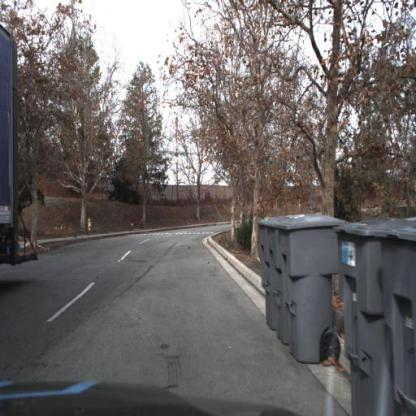truck: (1, 23, 39, 268)
